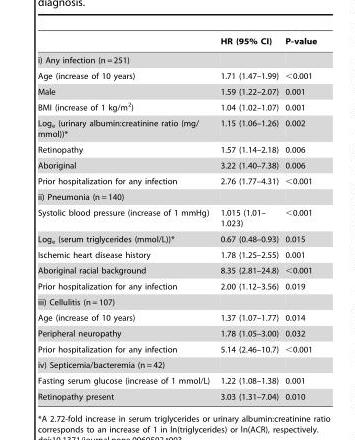table: (37, 36, 316, 400)
table column: (37, 36, 214, 400), (214, 36, 281, 400), (281, 36, 316, 400)
table column header: (37, 36, 316, 50)
table projected row header: (37, 50, 316, 67), (37, 188, 316, 204), (37, 356, 316, 372), (37, 294, 316, 309)
table row: (37, 204, 316, 231), (37, 115, 316, 141), (37, 50, 316, 67), (37, 98, 316, 115), (37, 67, 316, 83), (37, 141, 316, 157), (37, 172, 316, 188), (37, 188, 316, 204), (37, 231, 316, 247), (37, 262, 316, 278), (37, 278, 316, 294), (37, 309, 316, 325), (37, 325, 316, 341), (37, 356, 316, 372), (37, 372, 316, 388), (37, 83, 316, 98), (37, 157, 316, 172), (37, 247, 316, 262), (37, 294, 316, 309), (37, 341, 316, 356), (37, 36, 316, 50), (37, 388, 316, 400)
